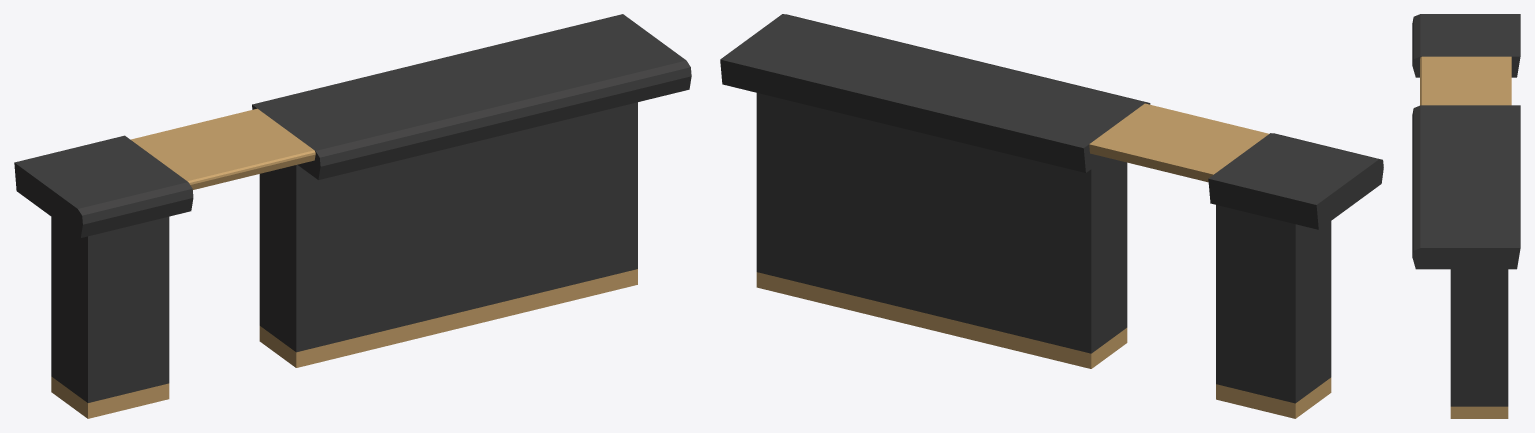
File: BarV2.fbx
The picture shows the model from 3 angles, left to right: view 1: azimuth 30°, elevation 25°; view 2: azimuth 150°, elevation 25°; view 3: azimuth 270°, elevation 25°; orthographic projection. The views are drawn at different scales.
Visible parts, largest first — view 1: BarV2; view 2: BarV2; view 3: BarV2.
Part boxes in pixels (x1,y1,x2,y2): BarV2: [14, 14, 691, 418]; BarV2: [720, 14, 1383, 418]; BarV2: [1412, 14, 1520, 418].
Bounding box in the file's own units: 283 × 103 × 55.27.
